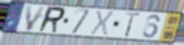6: (142, 14, 161, 39)
7: (71, 7, 91, 36)
R: (36, 6, 67, 34)
T: (124, 11, 142, 38)
V: (25, 5, 47, 32)
X: (89, 9, 116, 38)
